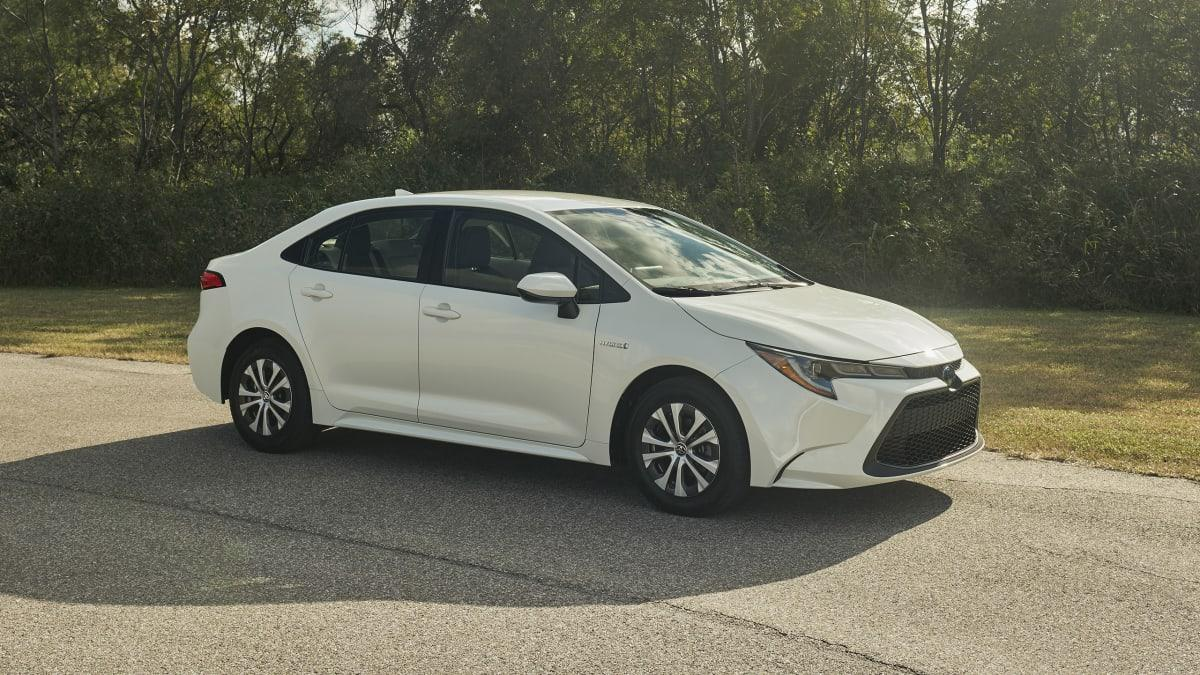car: (180, 181, 991, 515)
